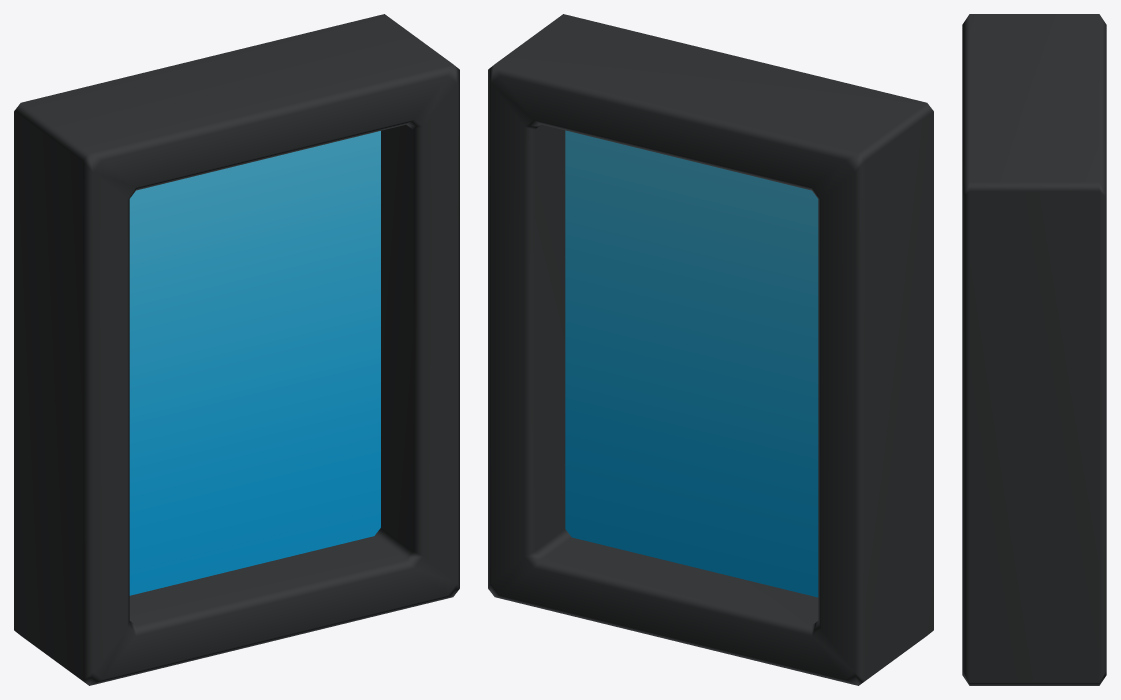
File: Window_Black_08.glb
The picture shows the model from 3 angles, left to right: view 1: azimuth 30°, elevation 25°; view 2: azimuth 150°, elevation 25°; view 3: azimuth 270°, elevation 25°; orthographic projection. The views are drawn at different scales.
Parts seen in each view (by area): view 1: Window_Black_08; view 2: Window_Black_08; view 3: Window_Black_08.
Part boxes in pixels (x1,y1,x2,y2): Window_Black_08: (14,14,459,685); Window_Black_08: (488,14,933,685); Window_Black_08: (962,14,1106,685).
Bounding box in the file's own units: 1.14 × 1.54 × 0.4.
Materials: 2 (2 with a texture image).
